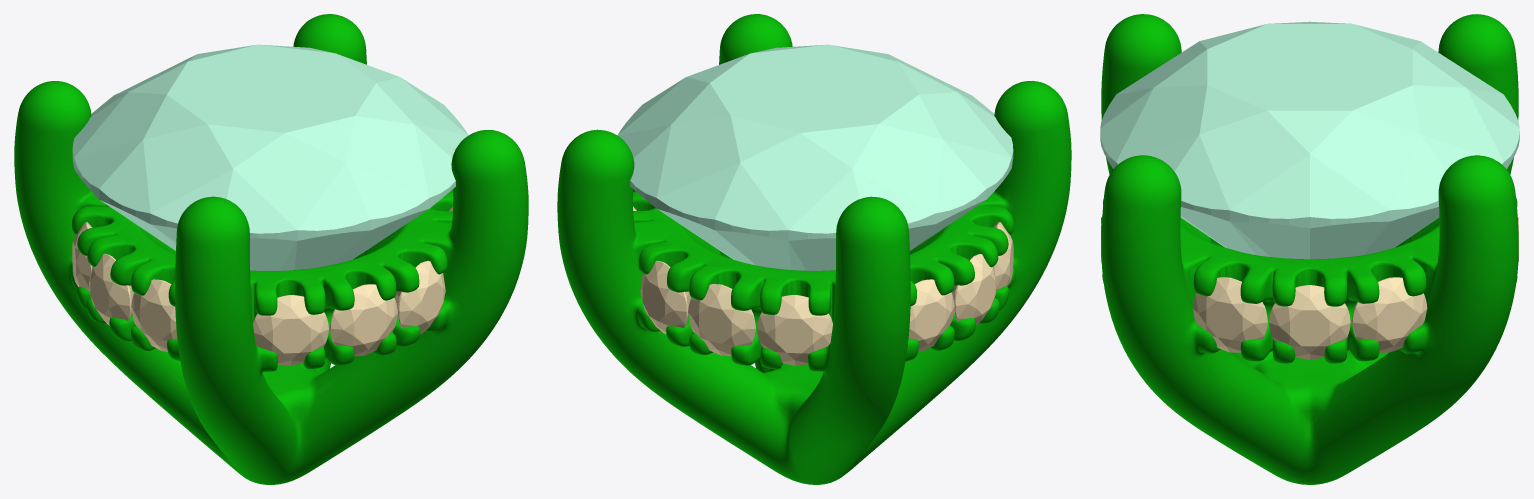
3 renders of one model, left to right at view 1: azimuth 30°, elevation 25°; view 2: azimuth 150°, elevation 25°; view 3: azimuth 270°, elevation 25°, orthographic. The views are drawn at different scales.
Parts seen in each view (by area): view 1: Metal01, CS_Diamond, Diamond_Round.008, Diamond_Round.009, Diamond_Round.010, Diamond_Round.007, Diamond_Round.006, Diamond_Round.005; view 2: Metal01, CS_Diamond, Diamond_Round.004, Diamond_Round.003, Diamond_Round.005, Diamond_Round.002, Diamond_Round.006, Diamond_Round.007; view 3: Metal01, CS_Diamond, Diamond_Round.001, Diamond_Round.011, Diamond_Round.
Boxes of the visible parts, x1,y1,x2,y2 form: Metal01: [14, 14, 528, 484]; CS_Diamond: [72, 44, 468, 270]; Diamond_Round.008: [253, 295, 328, 365]; Diamond_Round.009: [329, 284, 397, 356]; Diamond_Round.010: [394, 260, 445, 334]; Diamond_Round.007: [131, 279, 177, 351]; Diamond_Round.006: [89, 253, 134, 325]; Diamond_Round.005: [72, 222, 92, 291]; Metal01: [557, 14, 1071, 484]; CS_Diamond: [617, 44, 1013, 270]; Diamond_Round.004: [757, 295, 832, 365]; Diamond_Round.003: [688, 284, 755, 356]; Diamond_Round.005: [908, 279, 954, 351]; Diamond_Round.002: [640, 260, 691, 334]; Diamond_Round.006: [951, 254, 996, 325]; Diamond_Round.007: [993, 222, 1013, 290]; Metal01: [1101, 14, 1518, 484]; CS_Diamond: [1100, 21, 1519, 259]; Diamond_Round.001: [1269, 285, 1350, 359]; Diamond_Round.011: [1192, 277, 1267, 352]; Diamond_Round: [1352, 277, 1427, 352].
Size of the model in its own units: 5.15 by 5.56 by 5.15.
